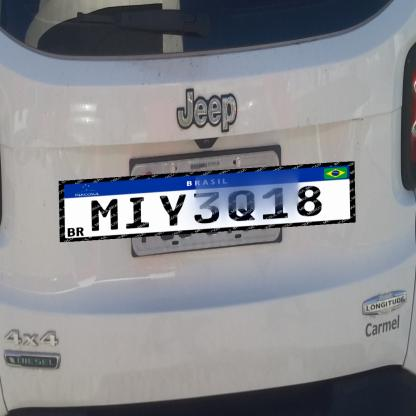PlacaM: (58, 162, 356, 242)
